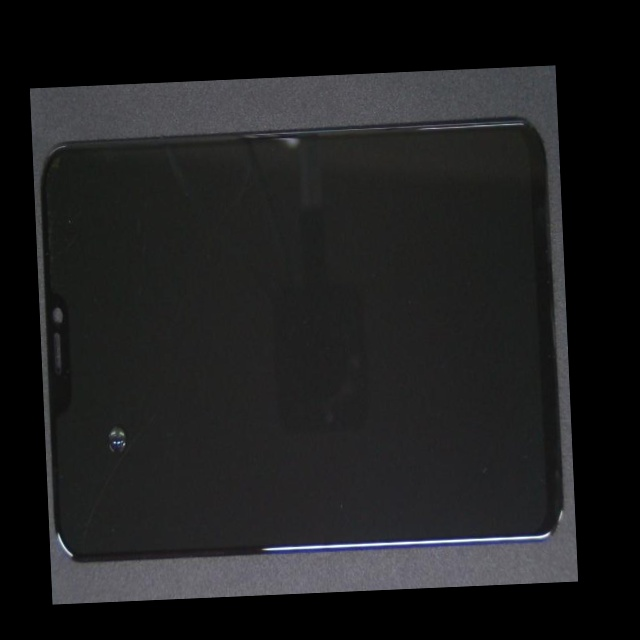oil: (88, 258, 174, 596)
